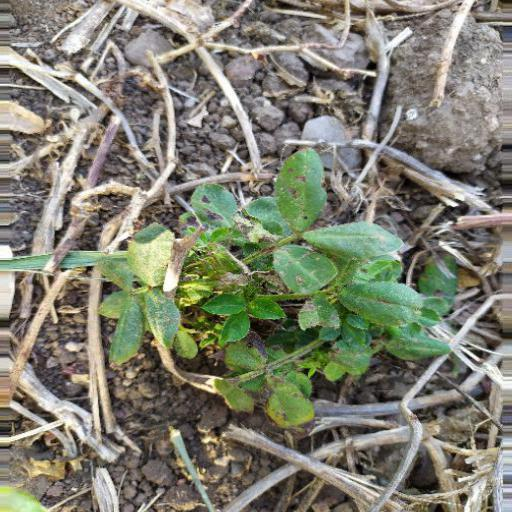weed: (115, 141, 445, 425)
